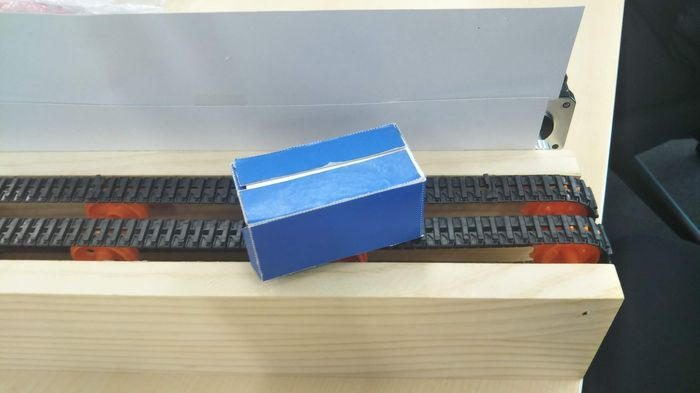box3: (225, 118, 429, 279)
